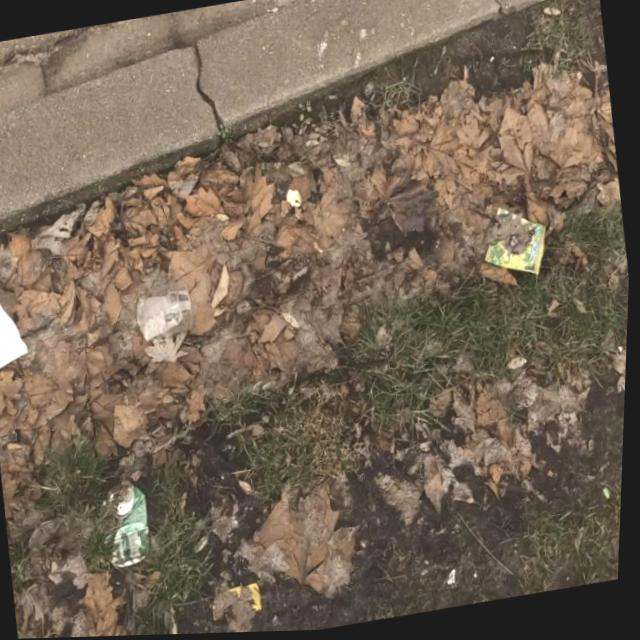Can-Metal: (96, 476, 160, 579)
